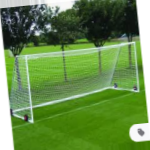goals: (9, 40, 140, 122)
